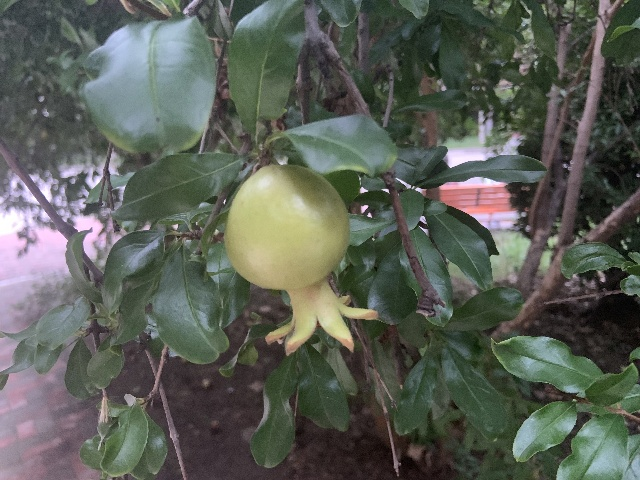mid-growth: (223, 163, 379, 356)
